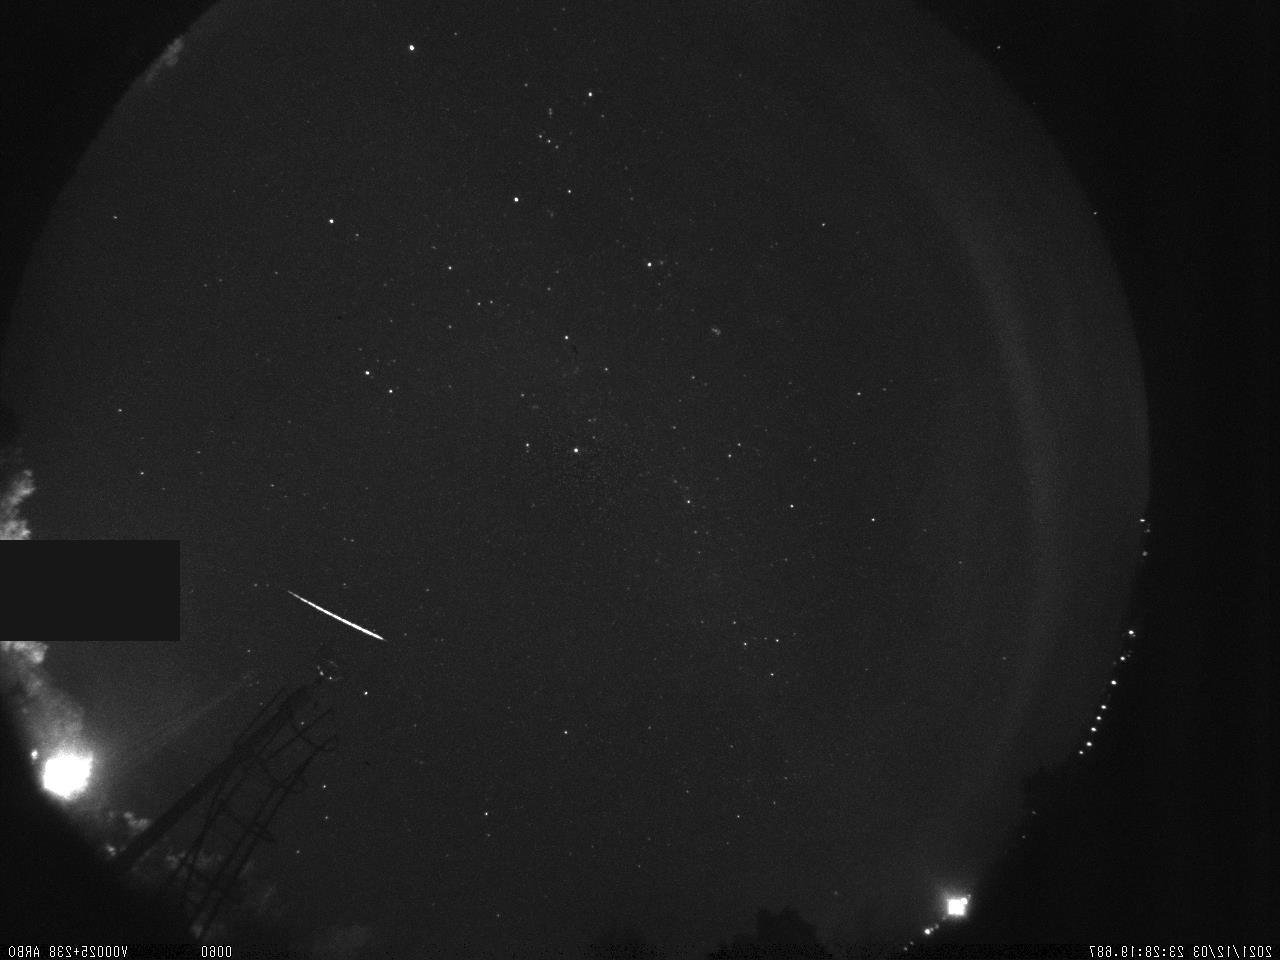meteor: (275, 580, 408, 653)
